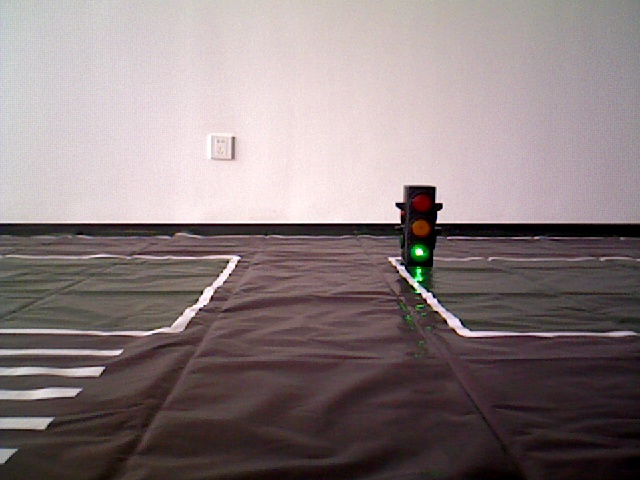green: (401, 188, 436, 262)
